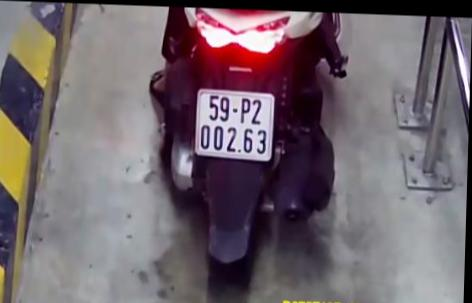LP: (192, 87, 279, 161)
